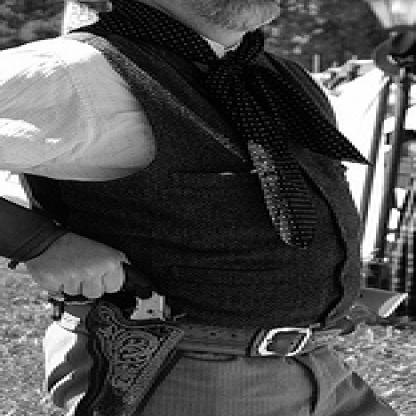gun: (35, 258, 195, 414)
